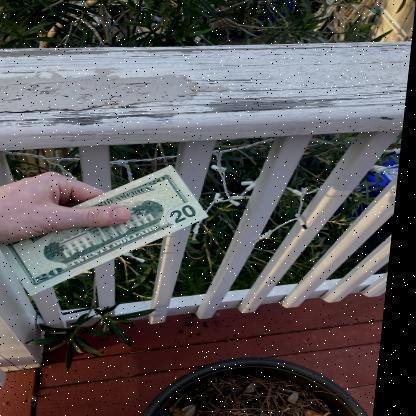twenty-back: (1, 165, 213, 296)
